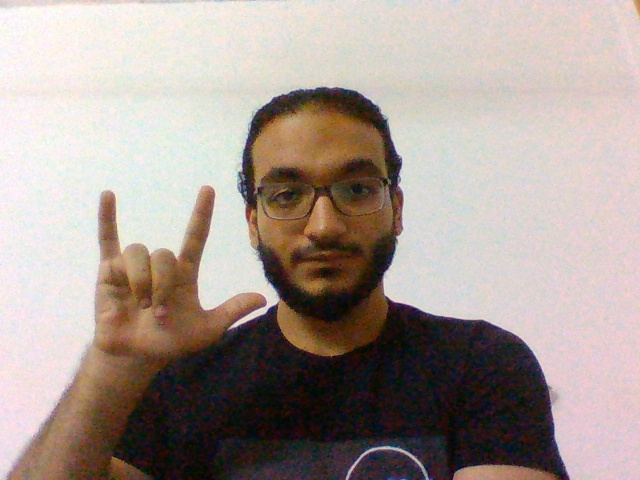I Love Yoy: (88, 166, 270, 363)
